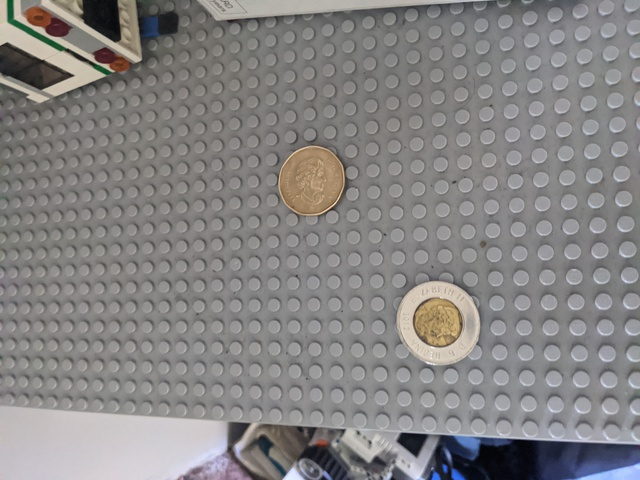loonie: (275, 144, 355, 216)
twonie: (388, 276, 480, 361)
